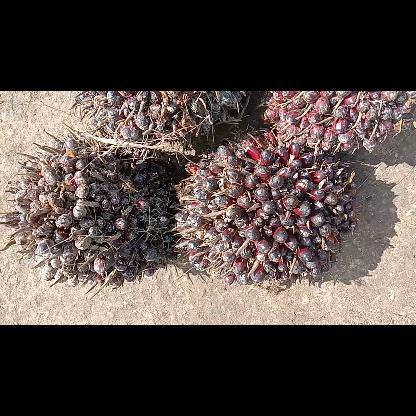Kurang masak: (178, 134, 359, 293), (4, 135, 180, 288), (258, 90, 416, 154), (75, 92, 249, 146)
